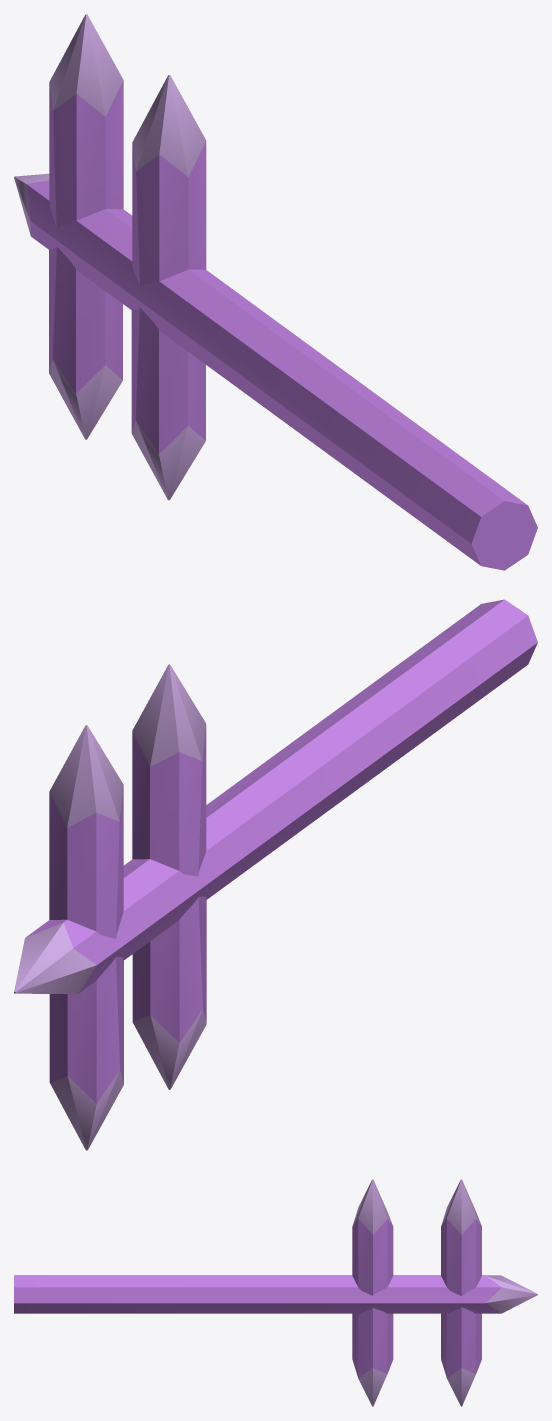
File: stake_one.fbx
3 views of the same model, one above another, from view 1: azimuth 30°, elevation 25°; view 2: azimuth 150°, elevation 25°; view 3: azimuth 270°, elevation 25° (orthographic). The views are drawn at different scales.
Visible parts, largest first — view 1: polySurface20; view 2: polySurface20; view 3: polySurface20.
Part boxes in pixels (<box>): polySurface20: <box>14,14,537,570</box>; polySurface20: <box>14,599,537,1150</box>; polySurface20: <box>14,1179,537,1406</box>.
Size of the model in its own units: 2.01 by 12.2 by 25.52.
